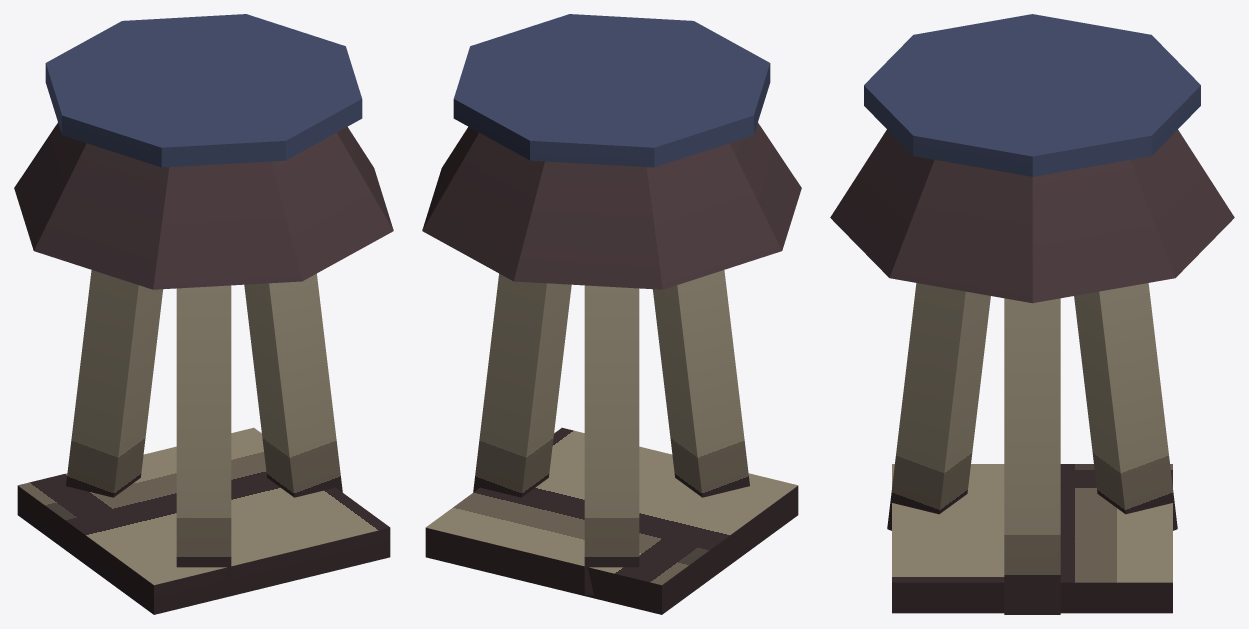
The model's file is brazier.glb.
3 views of the same model, side by side, from view 1: azimuth 30°, elevation 25°; view 2: azimuth 150°, elevation 25°; view 3: azimuth 270°, elevation 25° (orthographic). The views are drawn at different scales.
Visible parts, largest first — view 1: brazier; view 2: brazier; view 3: brazier.
Boxes of the visible parts, bbox=[...] form: brazier: bbox=[14, 14, 393, 614]; brazier: bbox=[422, 14, 801, 614]; brazier: bbox=[830, 14, 1234, 614].
Bounding box in the file's own units: 0.72 × 0.926 × 0.72.
Materials: 2 (1 with a texture image).
